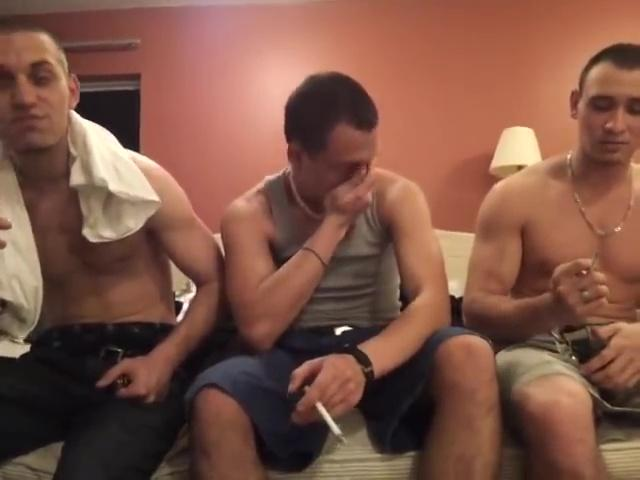cigarette: (308, 397, 348, 444)
